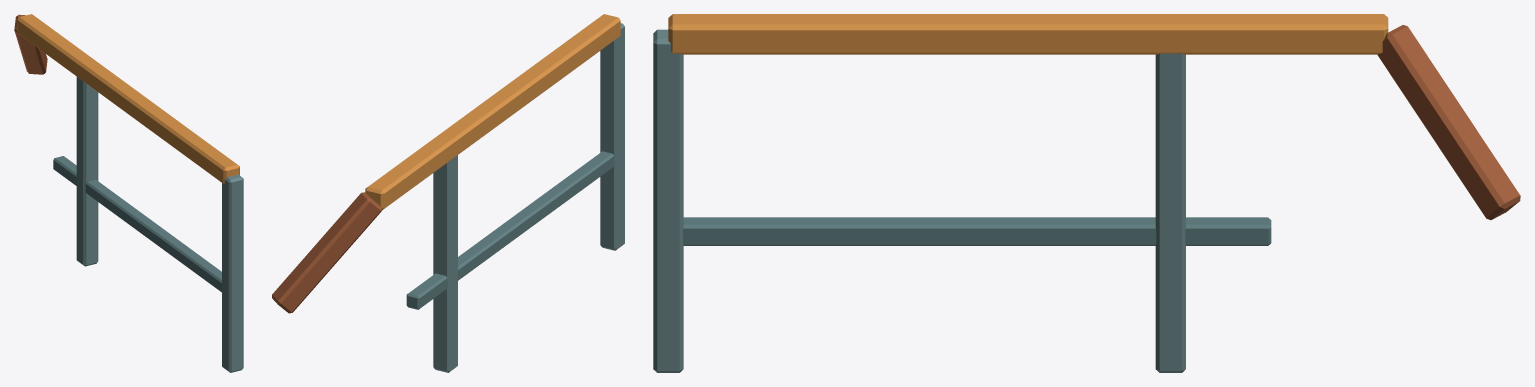
File: Rail_Broken_3m.glb
3 views of the same model, side by side, from view 1: azimuth 30°, elevation 25°; view 2: azimuth 150°, elevation 25°; view 3: azimuth 270°, elevation 25° (orthographic). The views are drawn at different scales.
Parts seen in each view (by area): view 1: Rail_Broken_3m; view 2: Rail_Broken_3m; view 3: Rail_Broken_3m.
Part boxes in pixels (<box>): Rail_Broken_3m: <box>14,14,243,372</box>; Rail_Broken_3m: <box>272,14,624,372</box>; Rail_Broken_3m: <box>653,14,1520,372</box>.
Bounding box in the file's own units: 0.3797 × 1.15 × 2.59.
